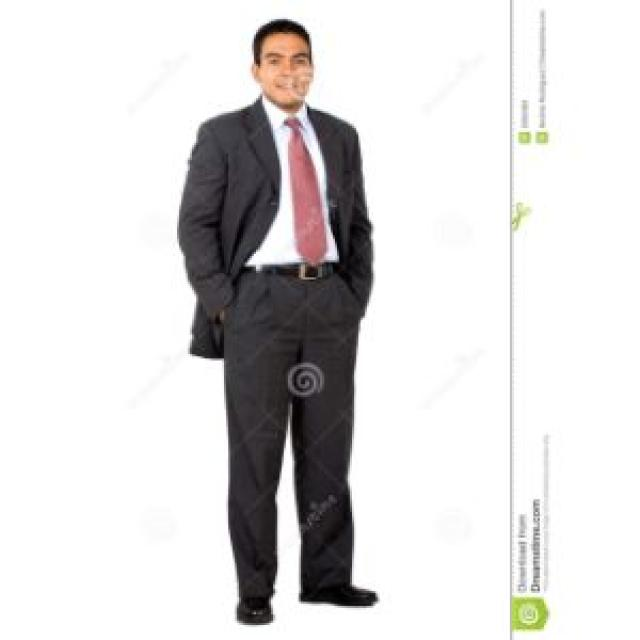adult: (177, 13, 382, 629)
